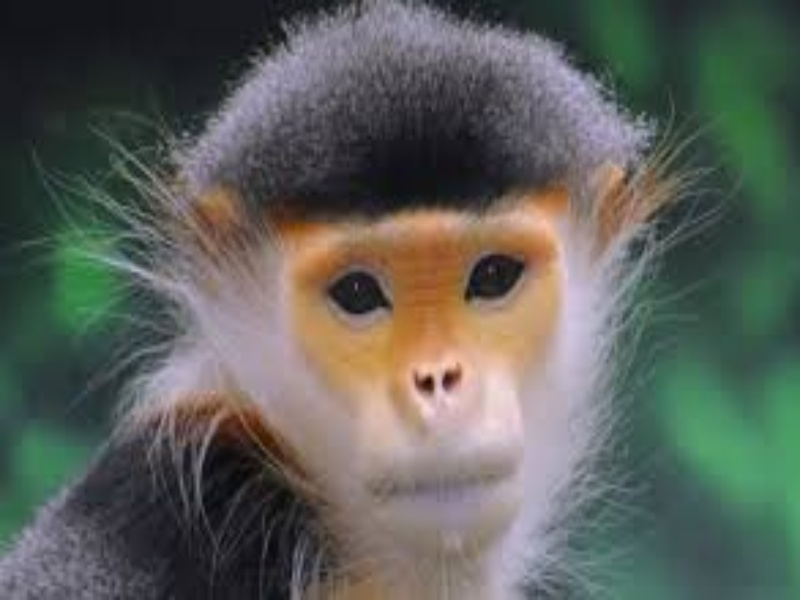monkey: (32, 1, 740, 600)
